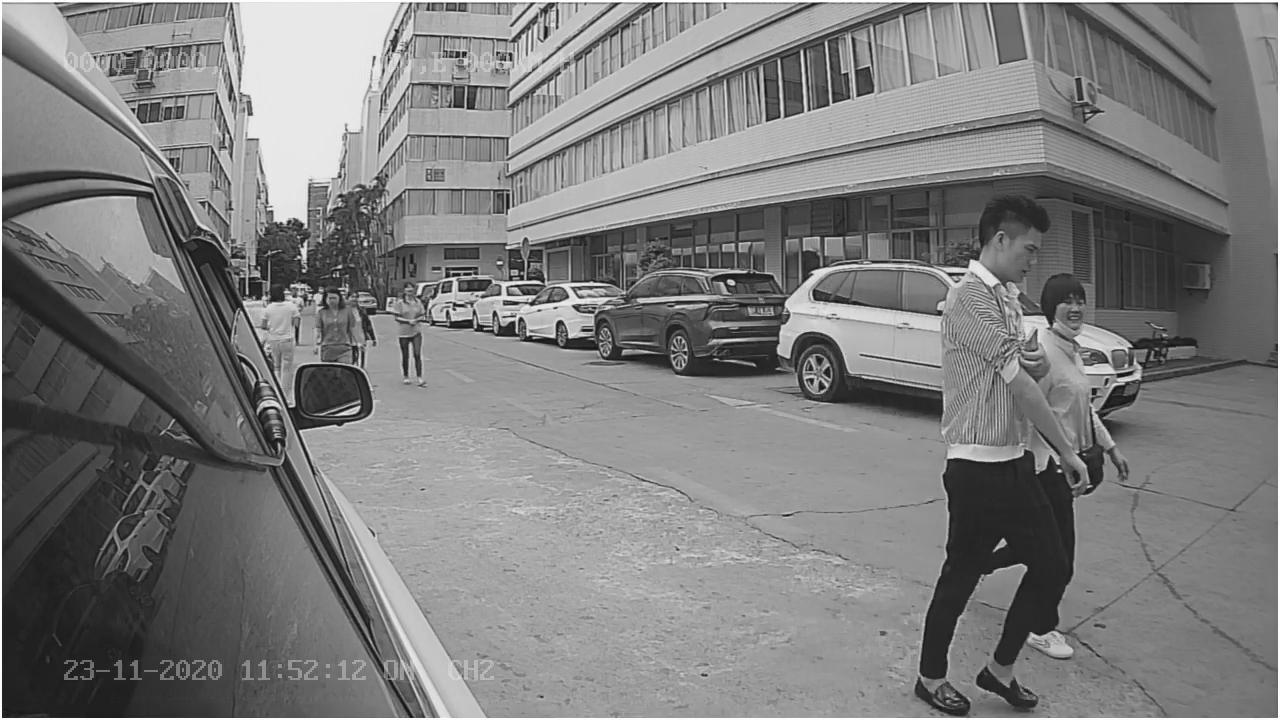person: (902, 194, 1073, 720)
